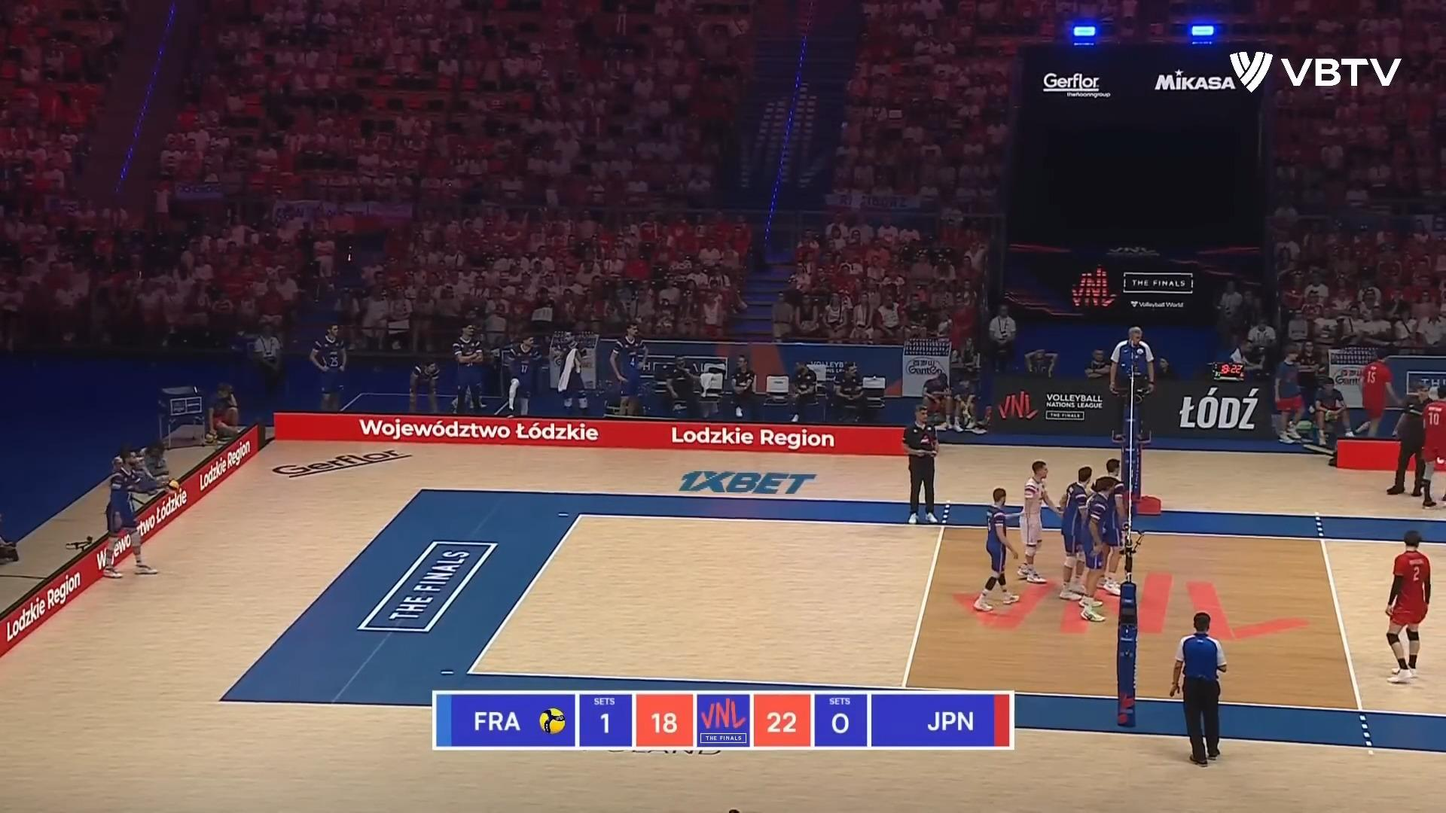ball: (165, 481, 180, 496)
